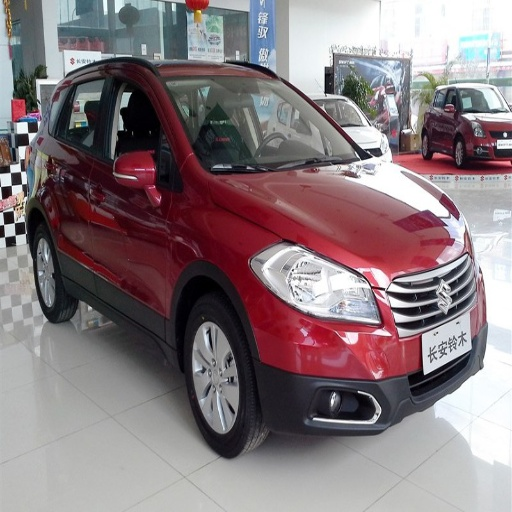front_bumper: (248, 283, 477, 432)
front_right_door: (88, 64, 173, 330)
front_right_light: (251, 241, 387, 329)
hood: (211, 159, 470, 314)
